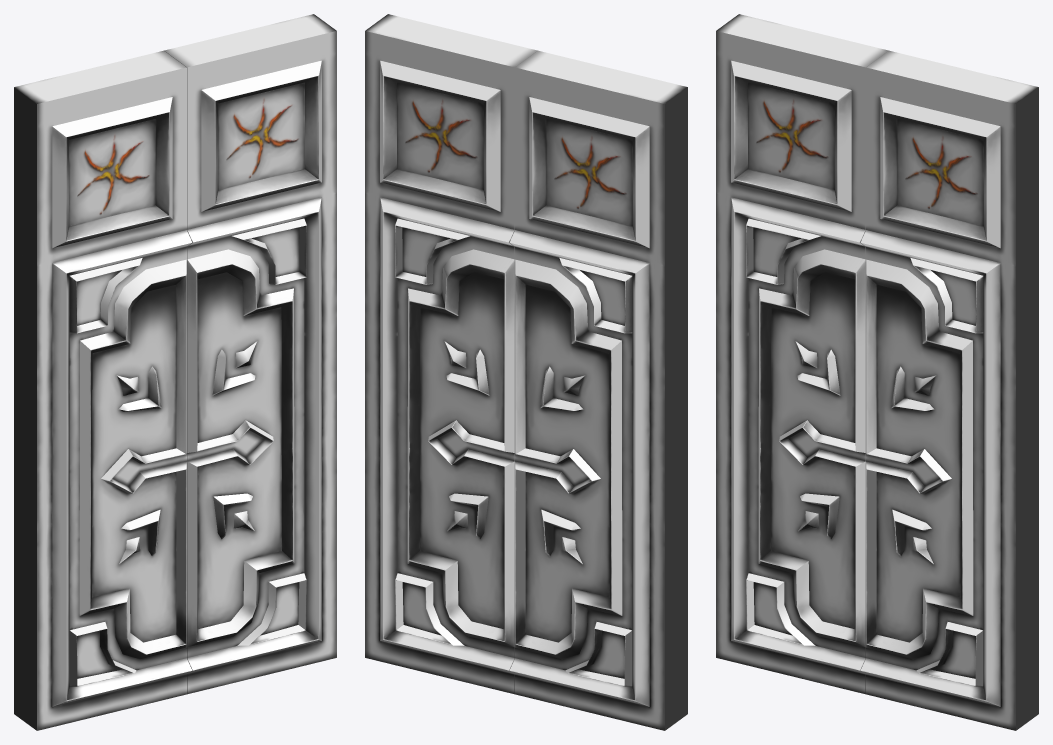
The model's file is angdoor.fbx.
The picture shows the model from 3 angles, left to right: view 1: azimuth 30°, elevation 25°; view 2: azimuth 150°, elevation 25°; view 3: azimuth 330°, elevation 25°; orthographic projection.
Visible parts, largest first — view 1: door1, door2; view 2: door1, door2; view 3: door2, door1.
Boxes of the visible parts, left/top/right/bottom form: door1: left=14, top=50, right=192, bottom=730; door2: left=164, top=14, right=336, bottom=694; door1: left=509, top=50, right=687, bottom=730; door2: left=365, top=14, right=537, bottom=694; door2: left=860, top=50, right=1038, bottom=730; door1: left=716, top=14, right=888, bottom=694.
Size of the model in its own units: 150 by 300 by 29.99.
